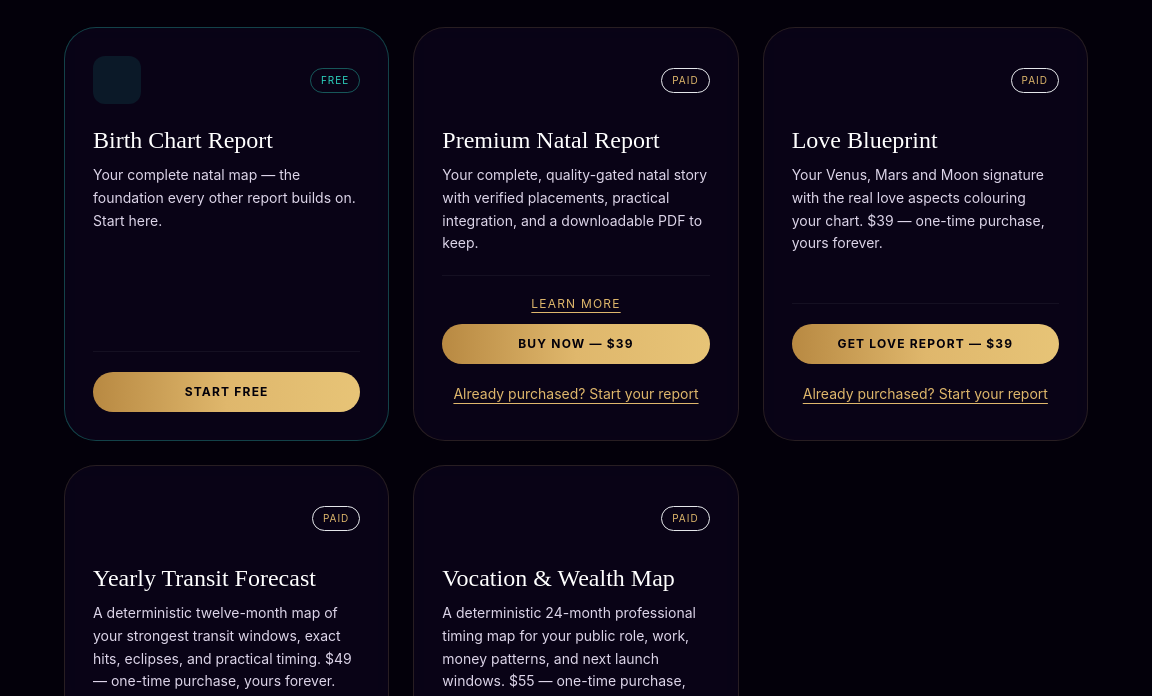
Test: ReportsView paid-report delivery gate › renders approved sections even when the optional overview is empty
(page scrolled)
Click the button "BUY NOW — $39" at (576, 344), box [442,324,710,364]
(page scrolled)
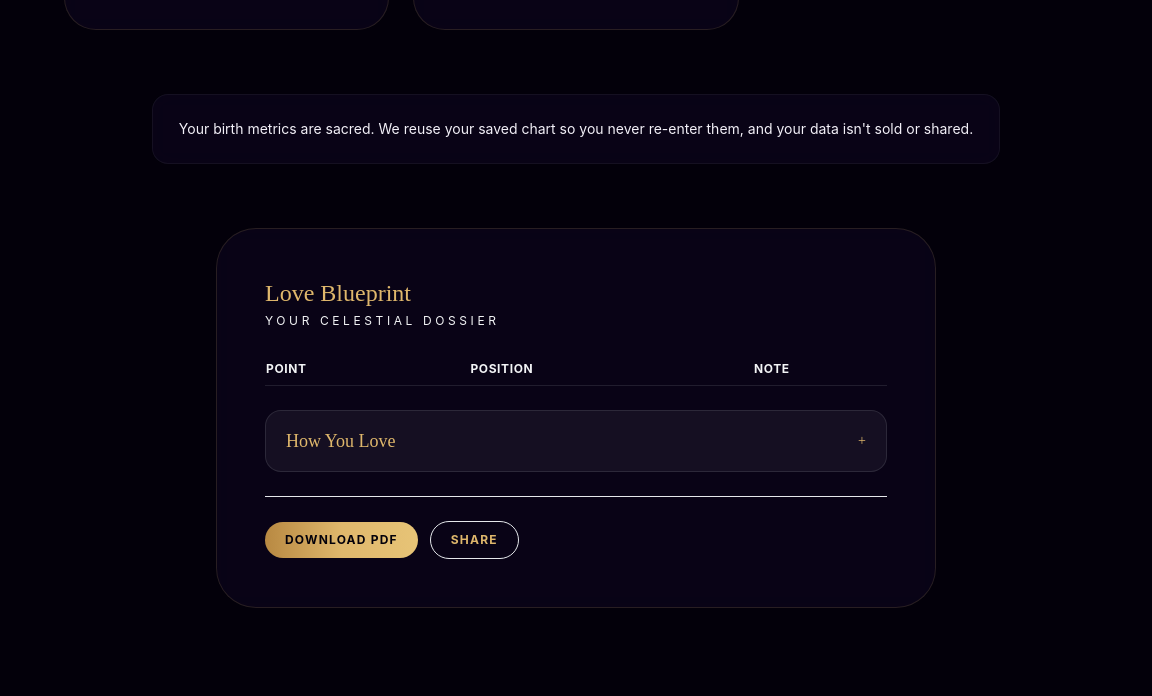
Result: the text "Your Celestial Dossier" is shown at [265,313,500,328]
Result: the text "How You Love" is shown at [286,427,396,455]
